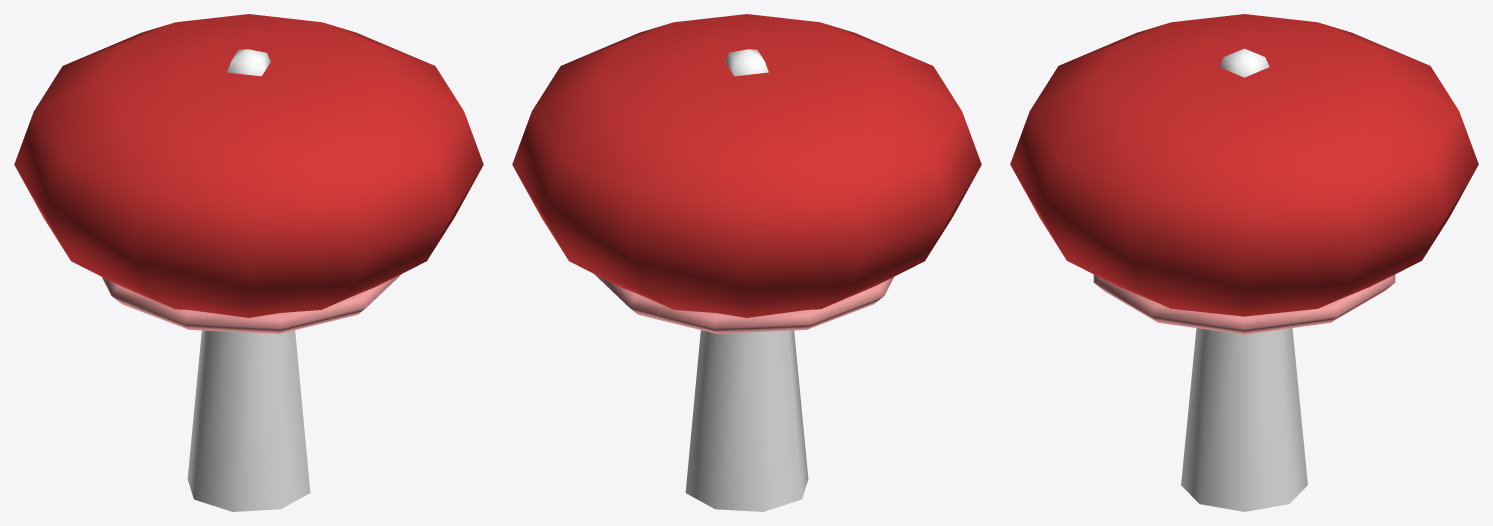
The model's file is jamur.glb.
The picture shows the model from 3 angles, left to right: view 1: azimuth 30°, elevation 25°; view 2: azimuth 150°, elevation 25°; view 3: azimuth 270°, elevation 25°; orthographic projection.
Bounding box in the file's own units: 0.96 × 0.985 × 0.96.
